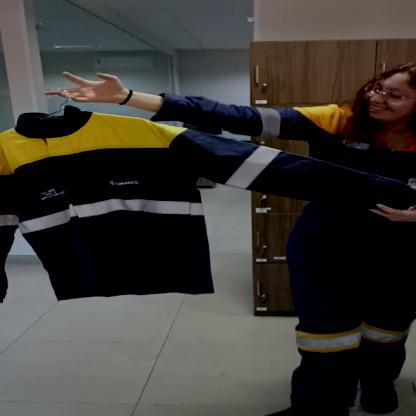C_eletrica: (0, 111, 405, 308)
